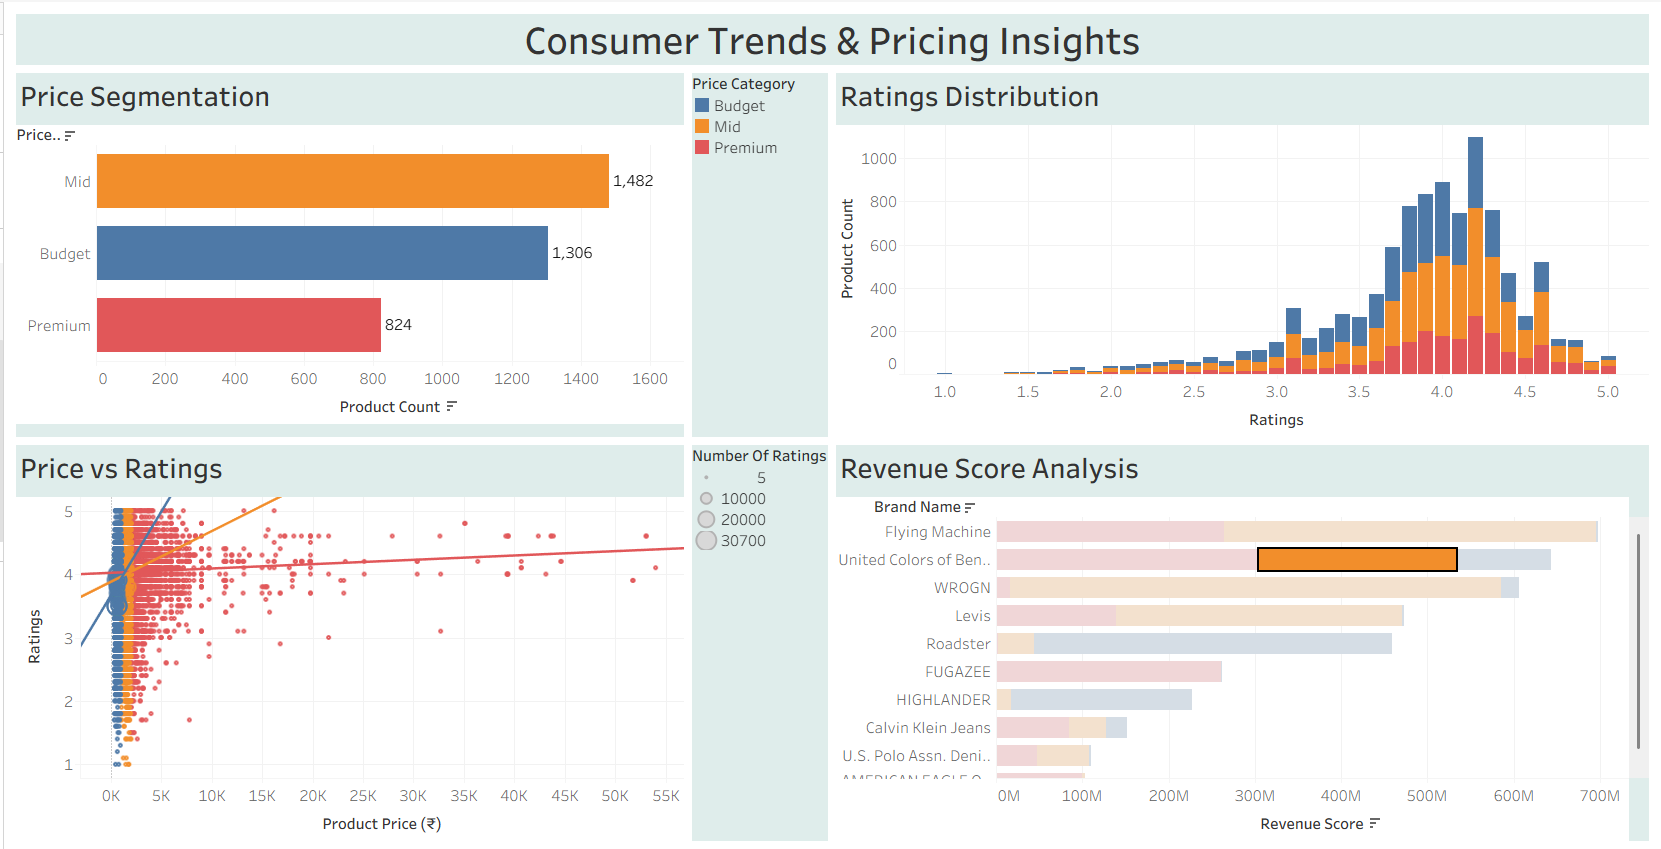

Layout of this report page (visuals, bound fields, positions):
{"tool":"tableau","page":{"name":"Consumer Trends & Pricing Insights","canvas":[1000,1000],"units":"permille","ordinal":1},"visuals":[{"type":"title","box":[4.8,9.4,990.3,69.3]},{"type":"worksheet","title":"Price Segmentation","mark":"Automatic","rows":["Price Category"],"cols":["pants_description"],"box":[4.8,78.7,408,437.1]},{"type":"legend","title":"Price Segmentation","param":"[federated.1f11bhp0f39k8018z41431xkcs0h].[none:Price Category:nk]","box":[412.8,78.7,86.9,437.1]},{"type":"worksheet","title":"Ratings Distribution","mark":"Bar","rows":["pants_description"],"cols":["ratings"],"box":[499.7,78.7,495.5,437.1]},{"type":"worksheet","title":"Price vs Ratings","mark":"Automatic","rows":["ratings"],"cols":["price"],"box":[4.8,515.9,407.9,474.7]},{"type":"legend","title":"Price vs Ratings","param":"[federated.1f11bhp0f39k8018z41431xkcs0h].[none:number_of_ratings:qk]","box":[412.8,515.9,86.9,474.7]},{"type":"worksheet","title":"Revenue Score Analysis","mark":"Automatic","rows":["brand_name"],"cols":["Revenue_Score"],"box":[499.7,515.9,495.5,474.7]}]}

Visuals, with their boxes on the dashboard's canvas, which has no fixed pixel size, in thousandths of its width and height (x1, y1, x2, y2). These are canvas units, not pixel positions in the 1661x849 screenshot, which may show the page scaled, cropped or inside an application window:
title: region(5, 9, 995, 79)
"Price Segmentation" worksheet: region(5, 79, 413, 516)
"Price Segmentation" legend: region(413, 79, 500, 516)
"Ratings Distribution" worksheet (Bar marks): region(500, 79, 995, 516)
"Price vs Ratings" worksheet: region(5, 516, 413, 991)
"Price vs Ratings" legend: region(413, 516, 500, 991)
"Revenue Score Analysis" worksheet: region(500, 516, 995, 991)
